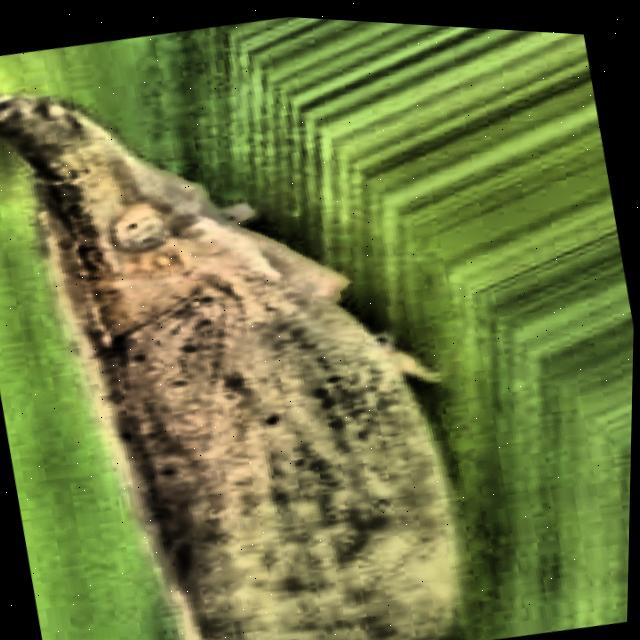Pyrilla-perpusilla: (0, 0, 592, 640)
